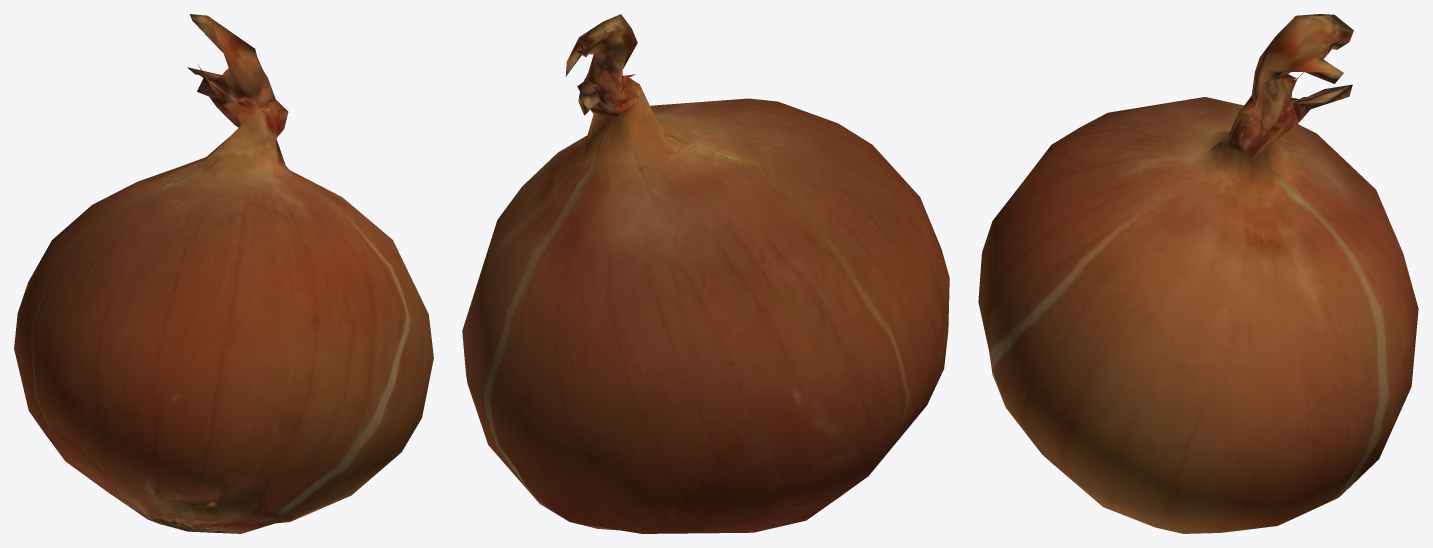
The model's file is yellow_onion.glb.
3 renders of one model, left to right at view 1: azimuth 30°, elevation 25°; view 2: azimuth 150°, elevation 25°; view 3: azimuth 270°, elevation 25°, orthographic. The views are drawn at different scales.
Visible parts, largest first — view 1: yellow_onion; view 2: yellow_onion; view 3: yellow_onion.
Part boxes in pixels (bbox=[...]): yellow_onion: bbox=[14, 14, 433, 533]; yellow_onion: bbox=[462, 14, 949, 533]; yellow_onion: bbox=[978, 14, 1418, 533].
Bounding box in the file's own units: 0.0722 × 0.0849 × 0.0685.
Materials: 1 (1 with a texture image).
